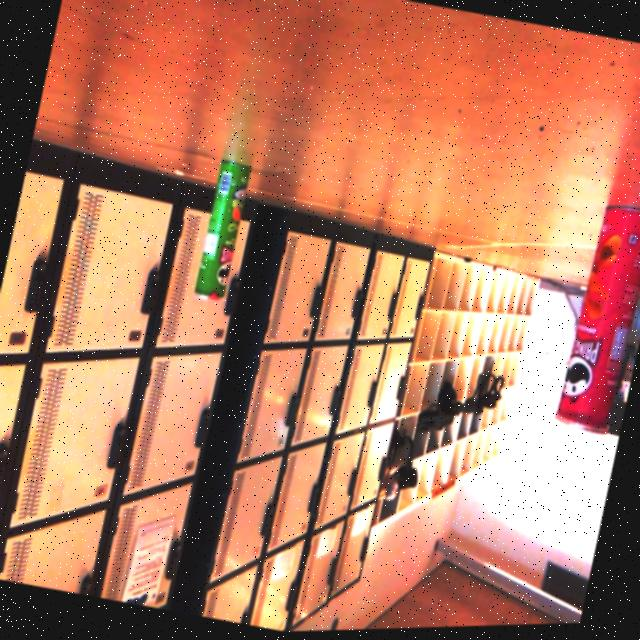greenpringles: (178, 145, 268, 324)
redpringles: (541, 185, 640, 453)
